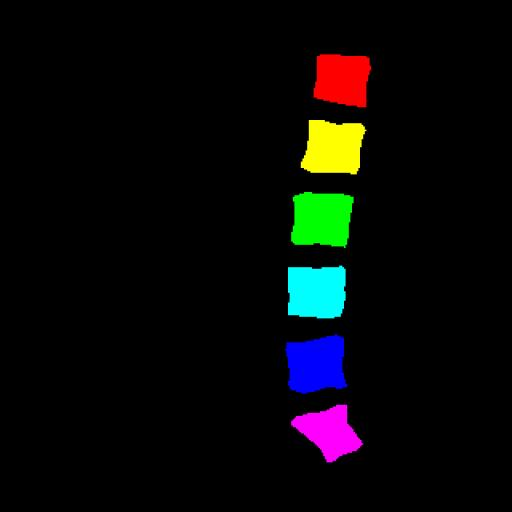L1: (314, 54, 371, 107)
L2: (301, 120, 366, 174)
L3: (291, 192, 354, 246)
L4: (288, 266, 346, 318)
L5: (286, 335, 347, 393)
S1: (291, 405, 362, 462)
